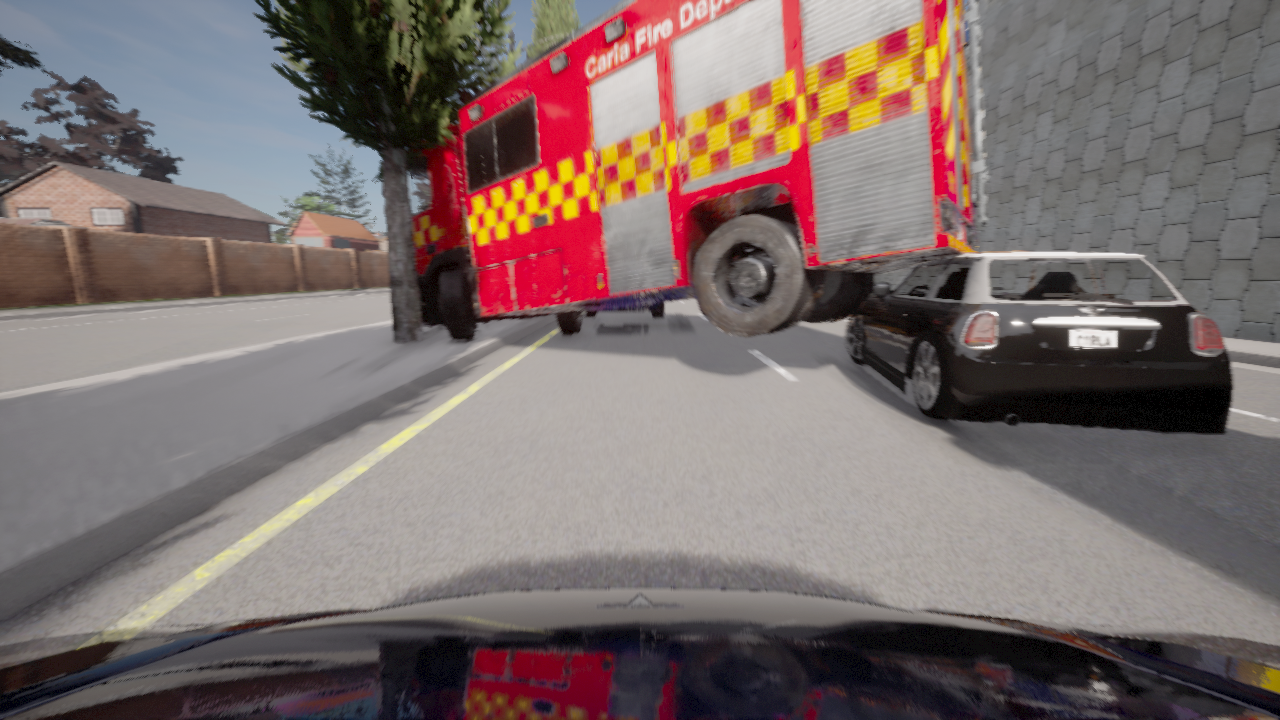cyclist: (381, 0, 987, 340), (0, 588, 1279, 719), (844, 251, 1232, 433), (585, 302, 663, 317)
